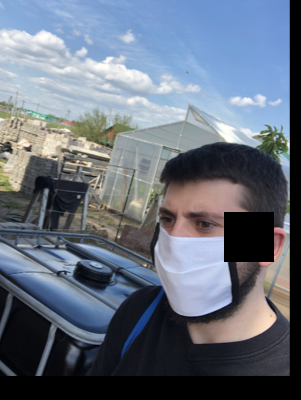with_mask: (149, 199, 243, 320)
